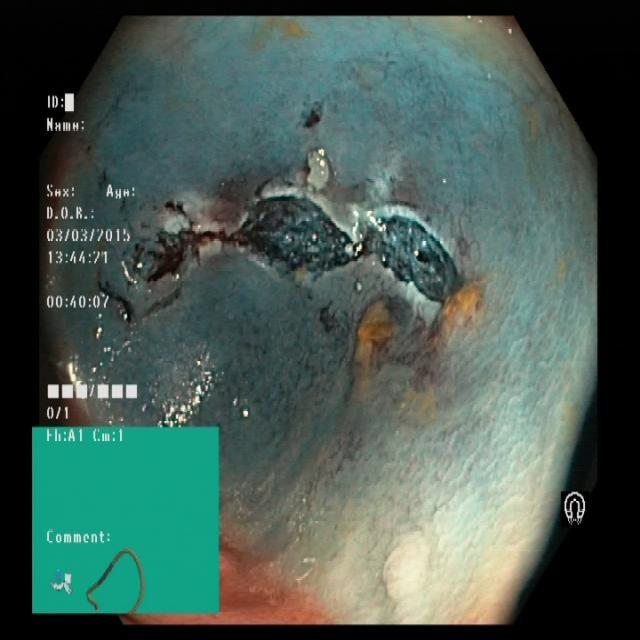dyed-resection-margins: (88, 85, 495, 411)
